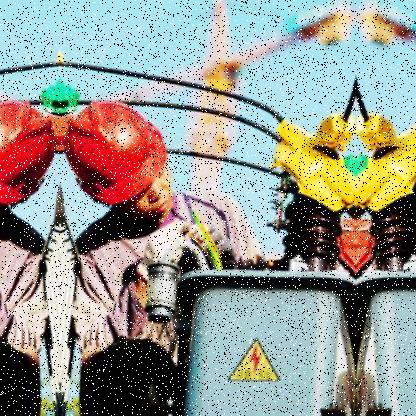Helmet: (70, 96, 184, 218), (0, 87, 64, 213)
